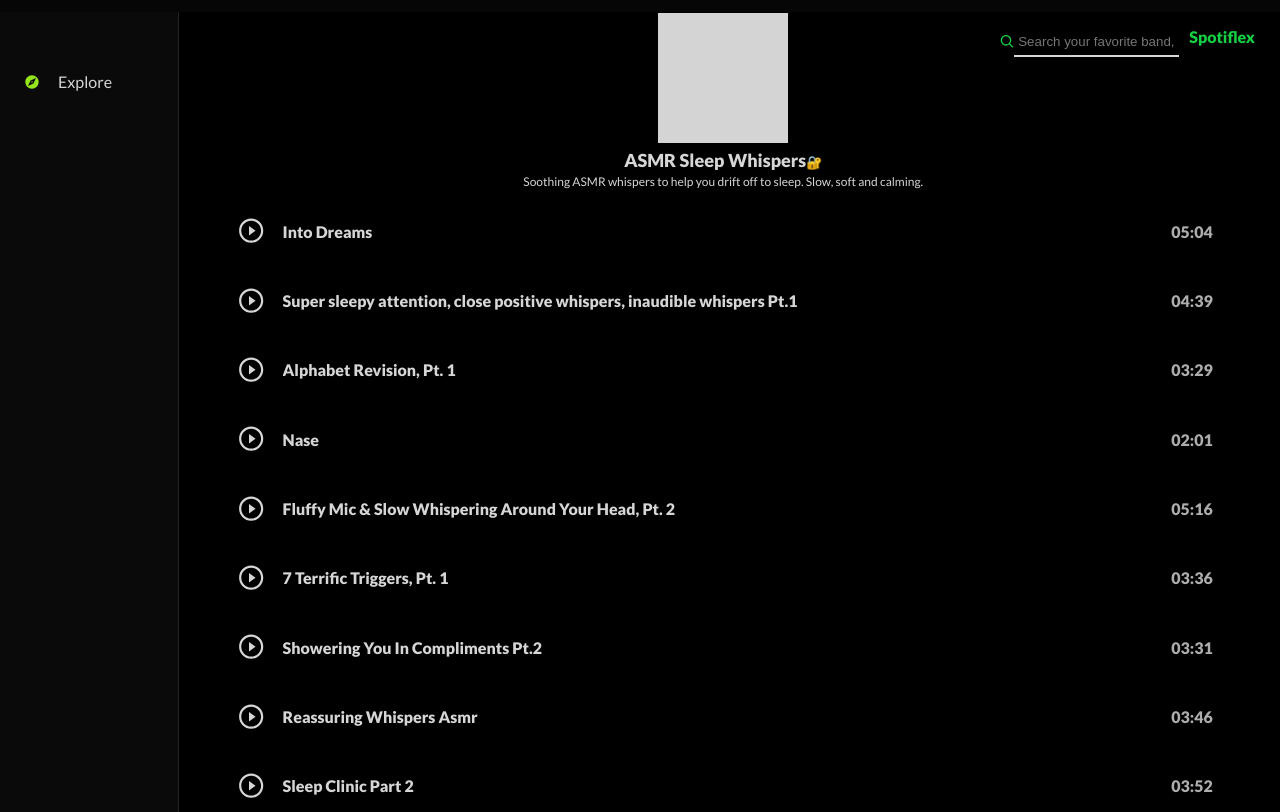
Scenario: Tracklist Playlist test › should play first track from playlist
Step 1. Click the button without text next to "Into Dreams" → (251, 231), box left=238, top=216, right=264, bottom=246
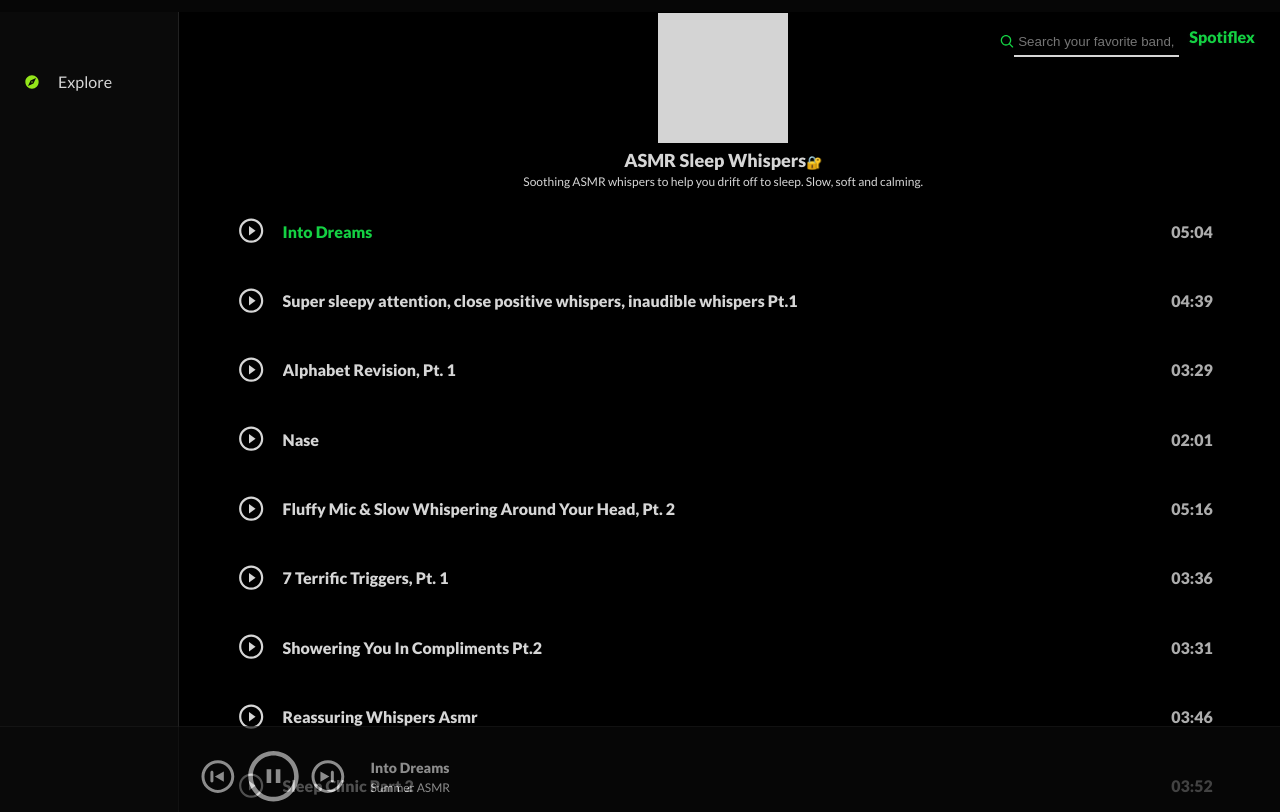
Check: the heading with class "track--footer__title" reads "Into Dreams", box left=370, top=758, right=450, bottom=775
Check: the text with class "track--footer__track-artist" reads "Summer ASMR", box left=370, top=779, right=450, bottom=794
